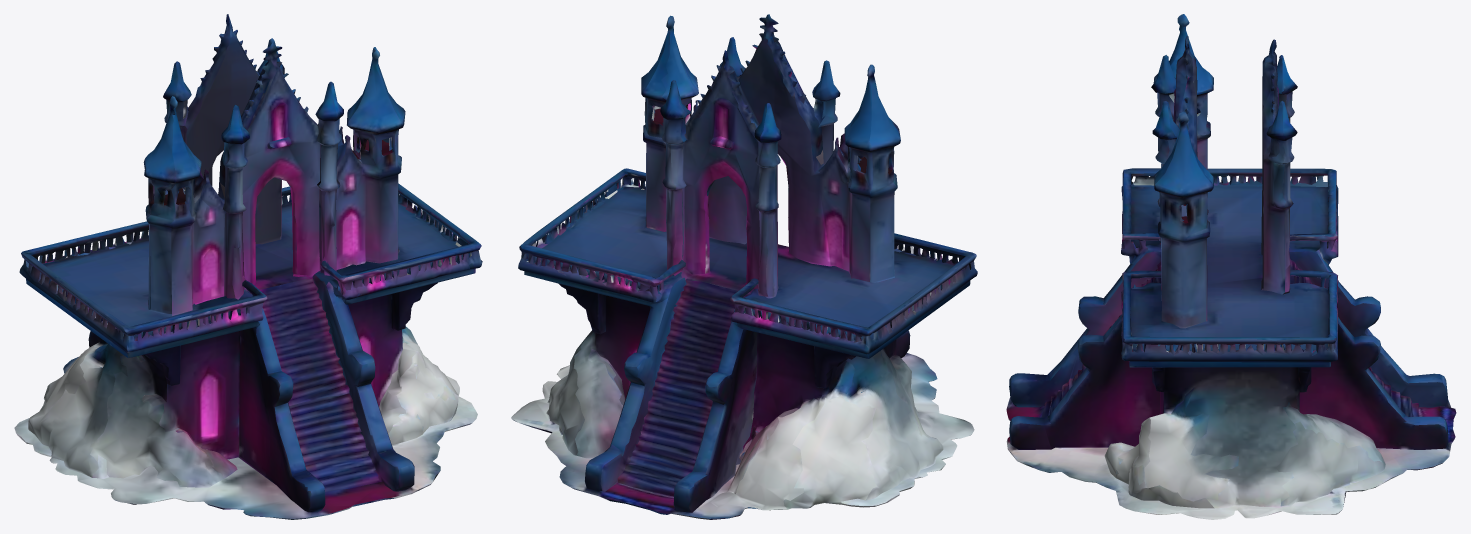
File: yggdrasil-crown-ascent-merged-2026-04-25t02-12-58-163z-generated-2026-05-17T21-23-28-068Z.low.glb
3 views of the same model, side by side, from view 1: azimuth 30°, elevation 25°; view 2: azimuth 150°, elevation 25°; view 3: azimuth 270°, elevation 25° (orthographic).
Parts seen in each view (by area): view 1: temp_mesh.ply; view 2: temp_mesh.ply; view 3: temp_mesh.ply.
Boxes of the visible parts, bbox=[...] form: temp_mesh.ply: bbox=[14, 14, 482, 519]; temp_mesh.ply: bbox=[511, 14, 977, 519]; temp_mesh.ply: bbox=[1006, 14, 1456, 519].
Size of the model in its own units: 1.95 by 1.9 by 1.97.
Materials: 1 (1 with a texture image).
